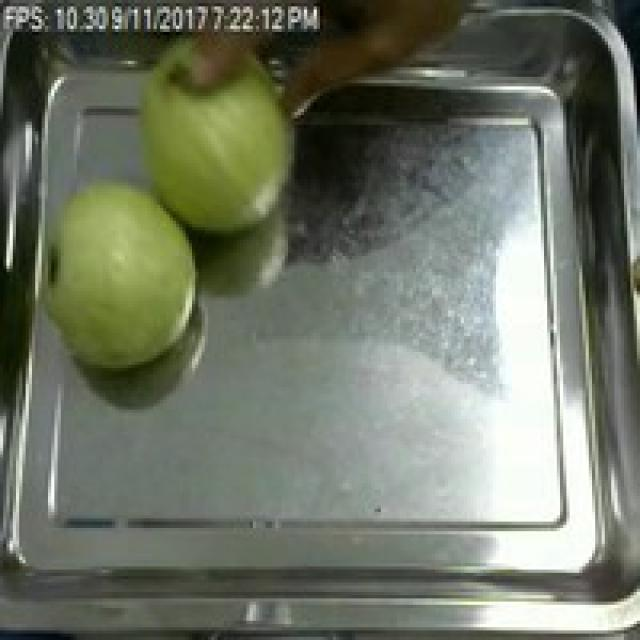Fruit: (74, 0, 316, 253), (22, 160, 212, 381)
